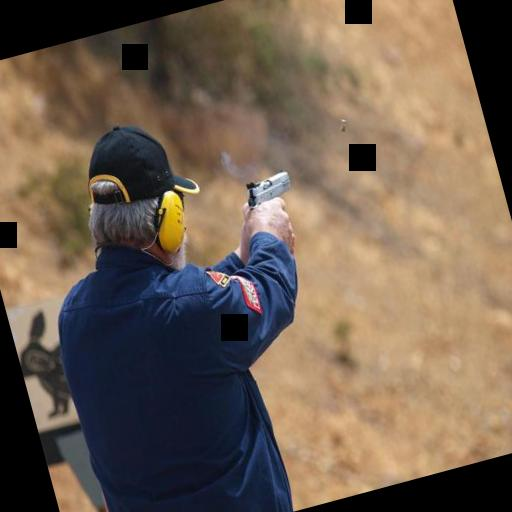Handgun: (240, 166, 296, 212)
